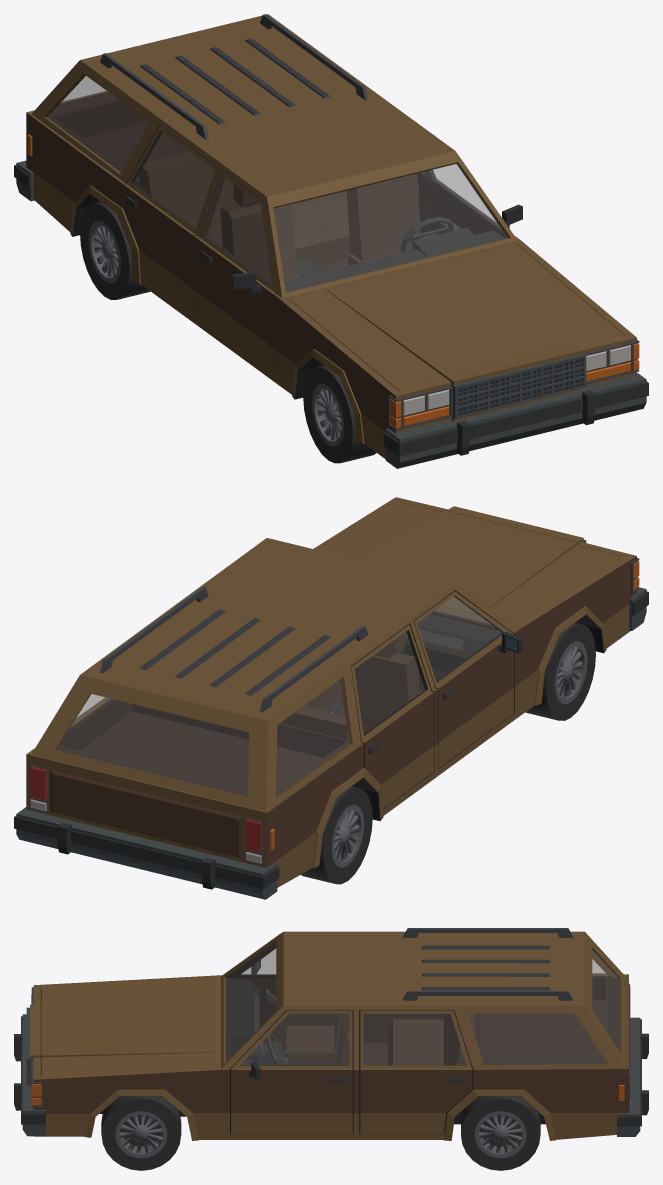
Rendered from 17_WAGON_01.glb.
The picture shows the model from 3 angles, top to bottom: view 1: azimuth 30°, elevation 25°; view 2: azimuth 150°, elevation 25°; view 3: azimuth 270°, elevation 25°; orthographic projection. The views are drawn at different scales.
Visible parts, largest first — view 1: WAGON_01, WINDOWS, INTERIOR.012, DOOR FR, DOOR BR, WHEEL_R1, WIN DOOR BR.001, WHEEL_R2, WIN FR, DOOR FL., WIN FL; view 2: WAGON_01, WINDOWS, INTERIOR.012, DOOR FR, DOOR BR, WIN DOOR BR.001, WHEEL_R1, WHEEL_R2, WIN FR; view 3: WAGON_01, WINDOWS, DOOR FL., INTERIOR.012, DOOR BL, WHEEL_L1, WHEEL_L2, WIN DOOR BL.001, WIN FL, DOOR FR, DOOR BR, WIN FR.
Part boxes in pixels (box(x1,y1,x2,y2)): WAGON_01: box(14, 14, 648, 468); WINDOWS: box(47, 76, 507, 292); INTERIOR.012: box(139, 152, 504, 291); DOOR FR: box(197, 171, 276, 373); DOOR BR: box(123, 125, 218, 314); WHEEL_R1: box(303, 365, 376, 463); WIN DOOR BR.001: box(134, 133, 214, 227); WHEEL_R2: box(80, 202, 150, 299); WIN FR: box(207, 178, 270, 281); DOOR FL.: box(428, 164, 522, 238); WIN FL: box(430, 164, 500, 228); WAGON_01: box(14, 497, 648, 899); WINDOWS: box(56, 597, 489, 796); INTERIOR.012: box(281, 614, 501, 739); DOOR FR: box(413, 591, 522, 767); DOOR BR: box(351, 624, 434, 808); WIN DOOR BR.001: box(355, 632, 424, 733); WHEEL_R1: box(525, 623, 595, 720); WHEEL_R2: box(301, 786, 372, 884); WIN FR: box(417, 597, 501, 679); WAGON_01: box(14, 928, 648, 1140); WINDOWS: box(226, 942, 619, 1064); DOOR FL.: box(230, 1010, 353, 1133); INTERIOR.012: box(230, 979, 475, 1065); DOOR BL: box(359, 1010, 473, 1133); WHEEL_L1: box(101, 1096, 181, 1170); WHEEL_L2: box(461, 1096, 540, 1170); WIN DOOR BL.001: box(363, 1014, 466, 1065); WIN FL: box(241, 1014, 349, 1064); DOOR FR: box(230, 944, 336, 1042); DOOR BR: box(363, 1013, 445, 1042); WIN FR: box(241, 949, 275, 974).
Bounding box in the file's own units: 2.21 × 1.48 × 5.23.
2 materials, 2 textured.
